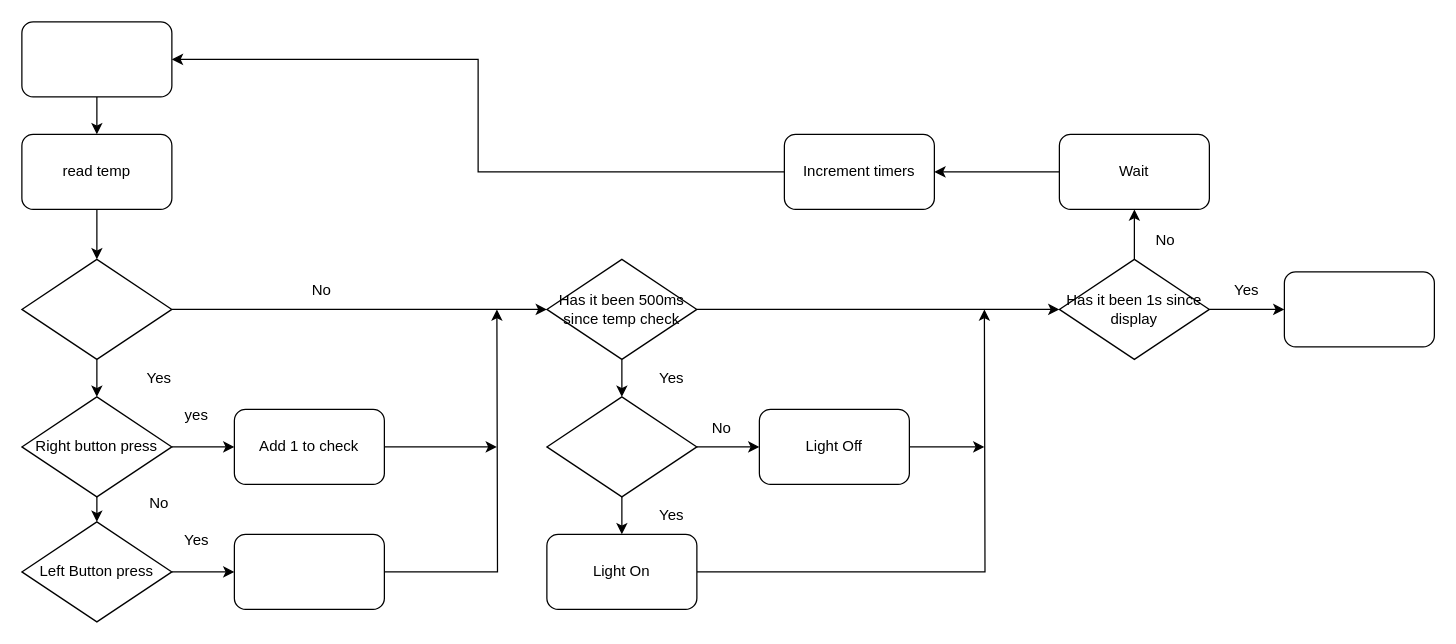
Some shapes in this 1456 by 644 pixel diagram are drawn without their labels. The shapes that lost their labels are listed below. From the top down, each one's centre as x and y in pixels, then its label:
At [96,59]: "Loop start".
At [96,308]: "Button press check".
At [1358,309]: "Display new info".
At [621,446]: "Temp below check".
At [308,571]: "Remove 1 from check".
